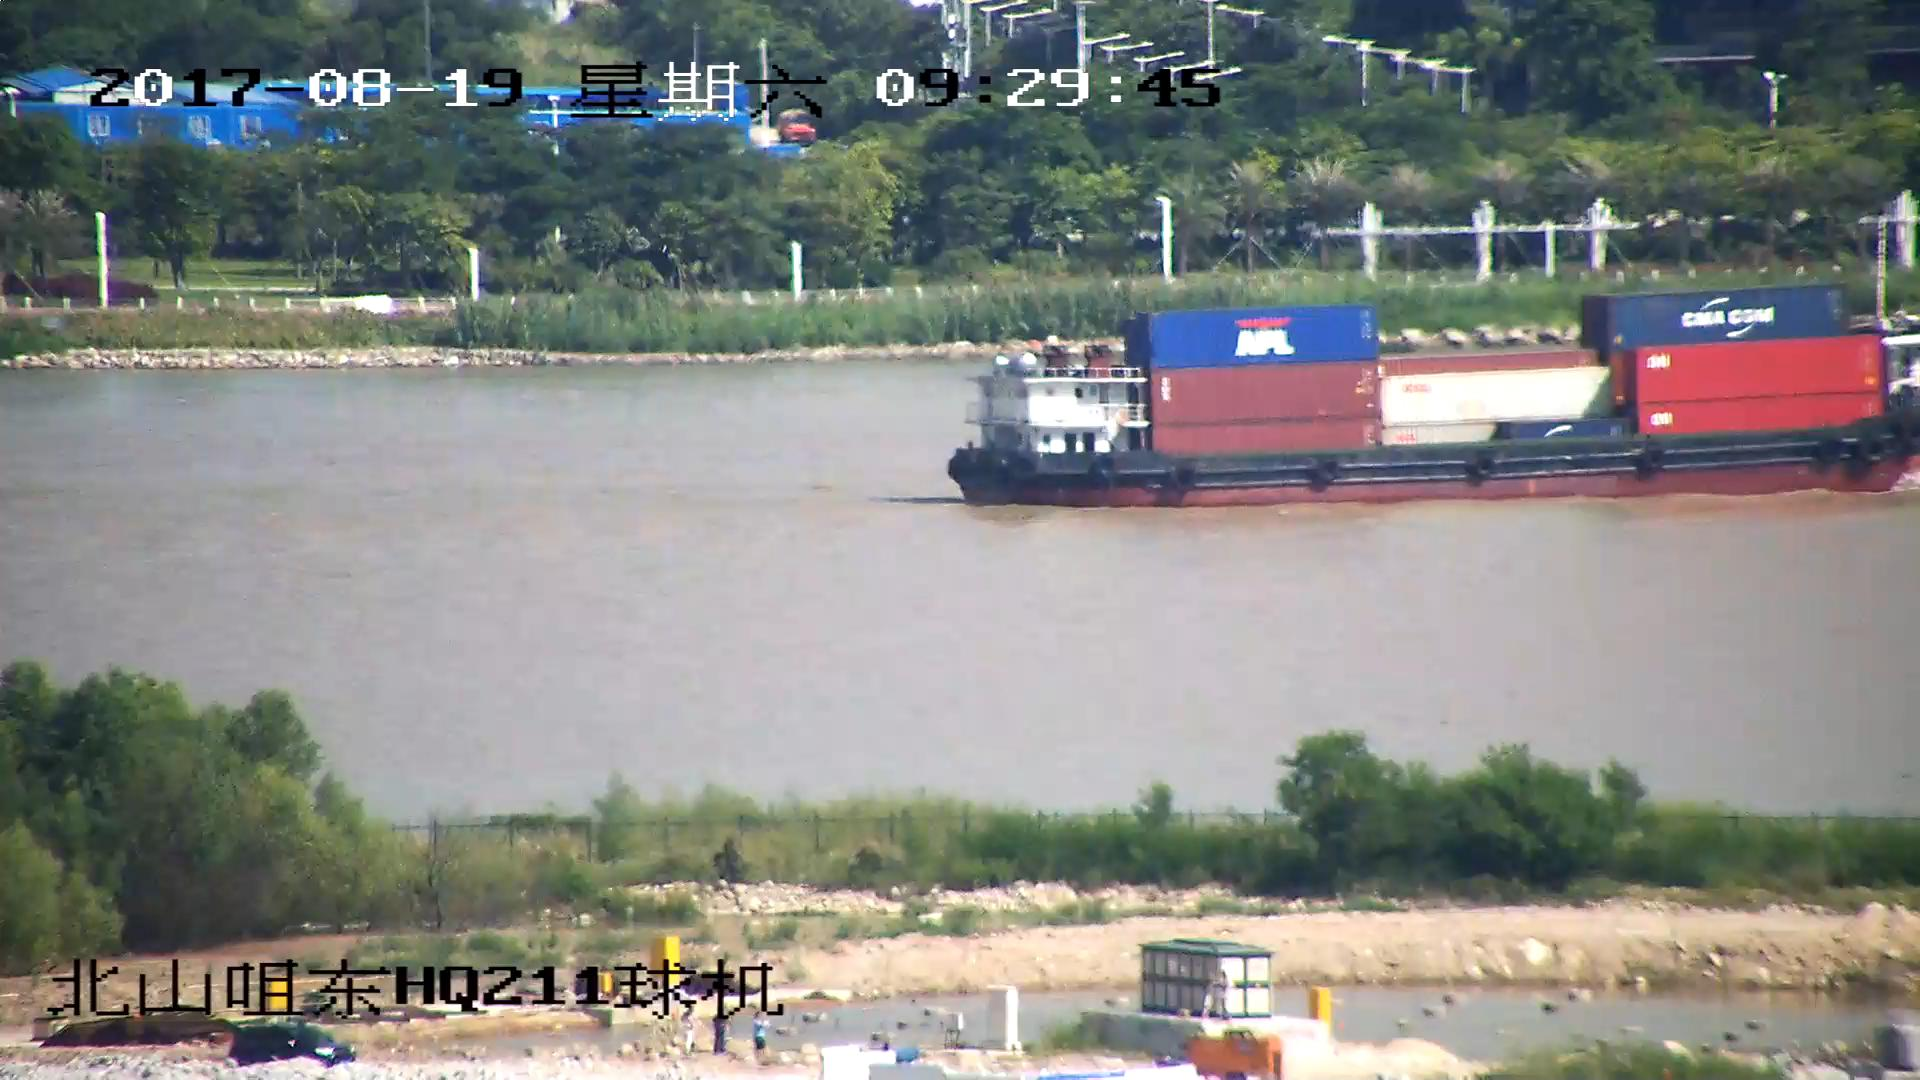container ship: (948, 222, 1920, 507)
